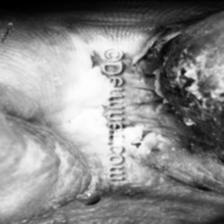Toxin: (124, 30, 224, 164), (58, 38, 110, 154), (76, 185, 106, 207)
